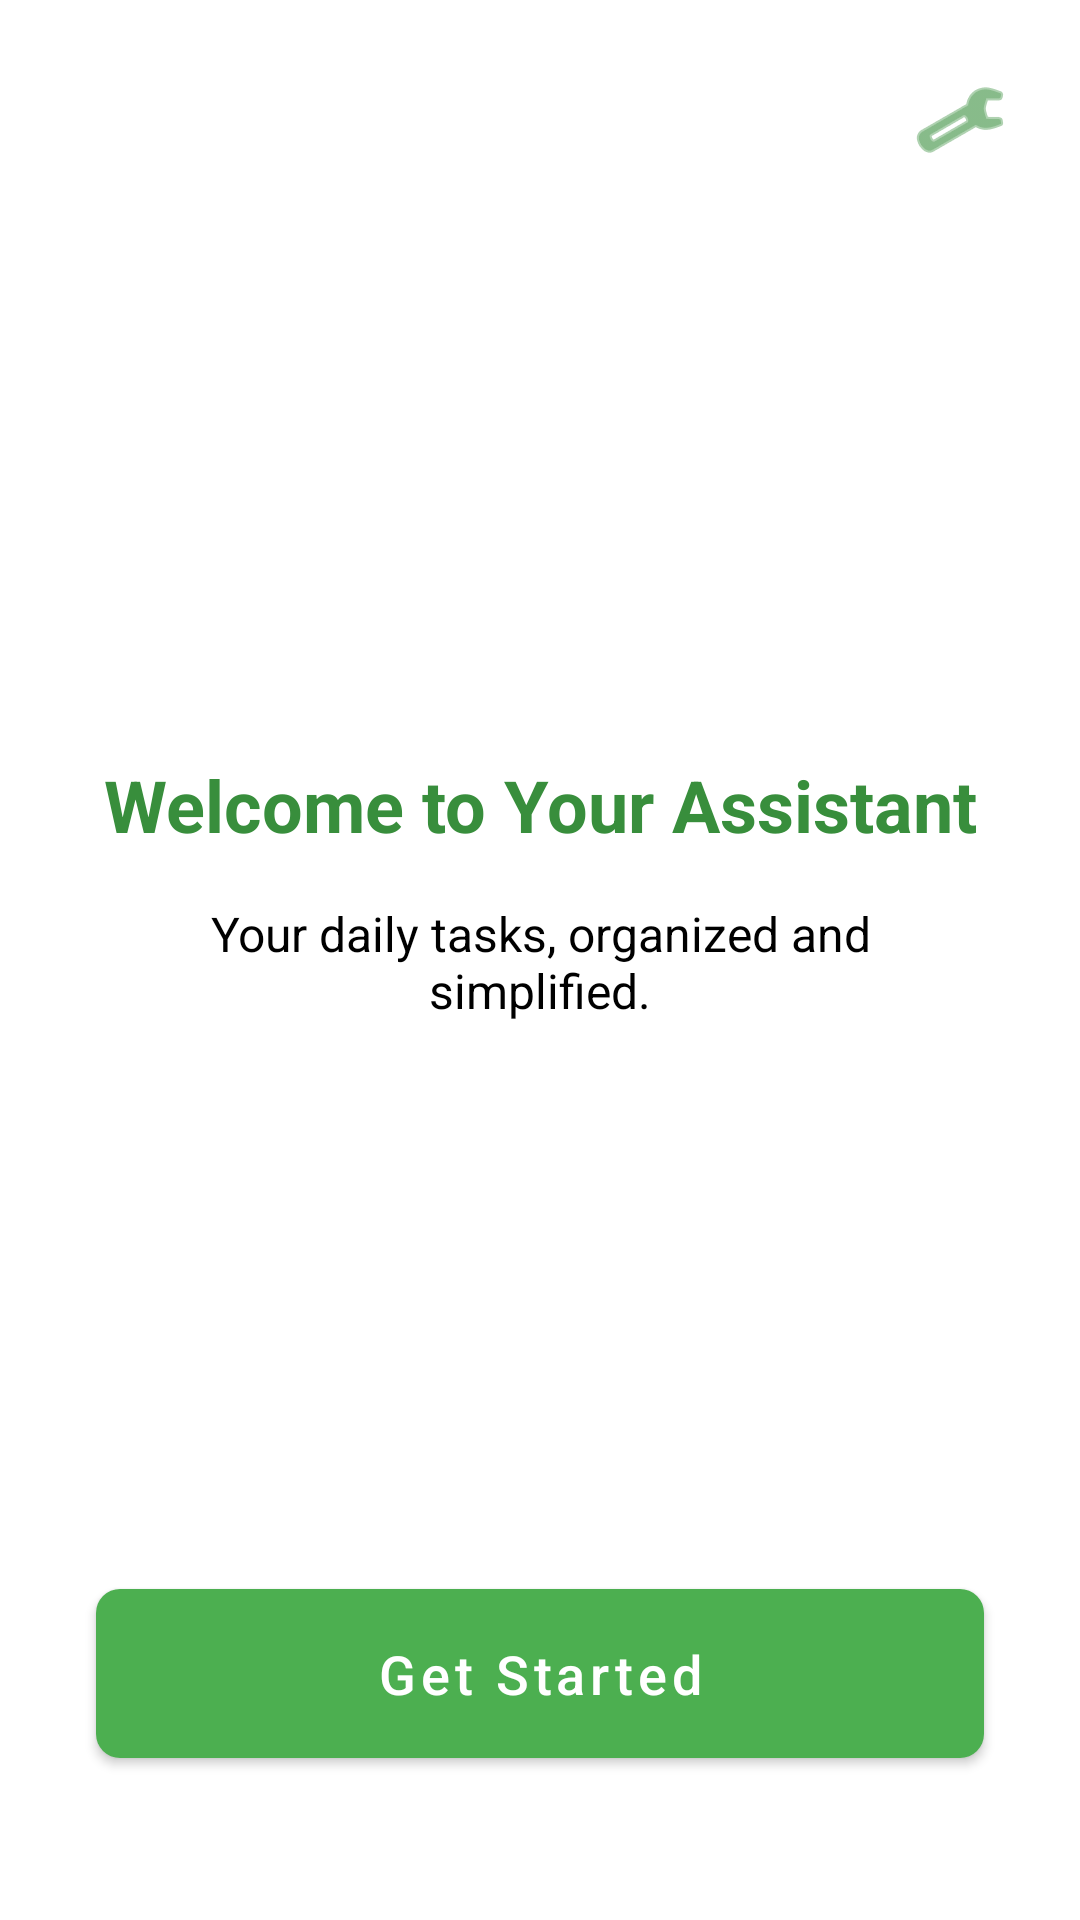

Screen size 1080×1920. Icon name, then its center in pixels as (x=x, y=y):
Theme Settings: (x=960, y=120)
